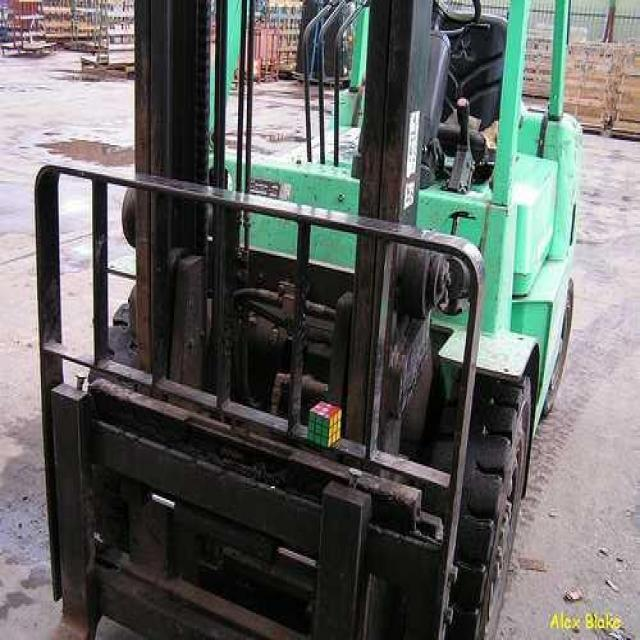forklift: (31, 0, 580, 638)
